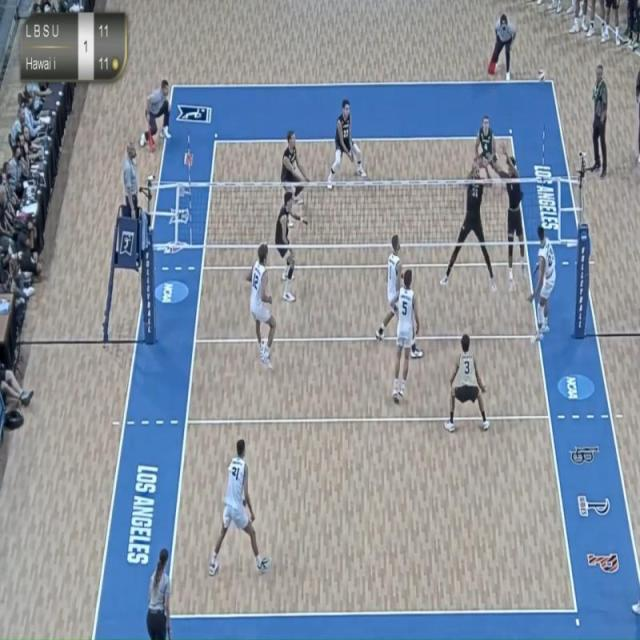volleyball: (535, 62, 550, 84)
